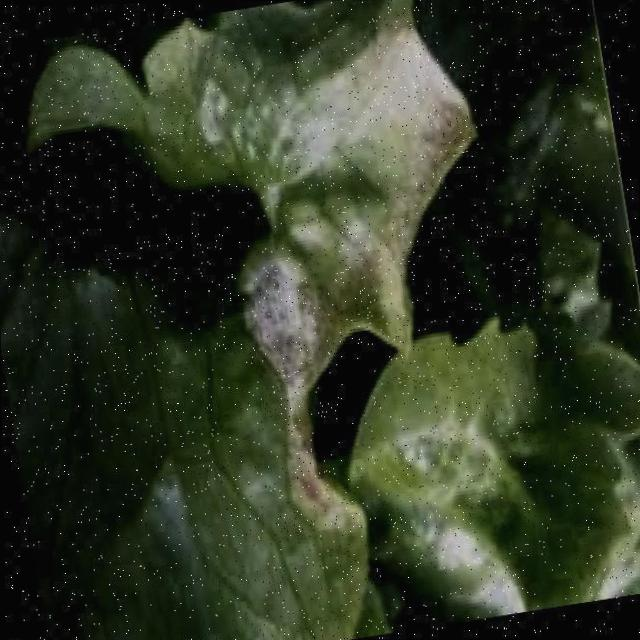Powdery_mildew_on_lettuce: (192, 4, 494, 375)
